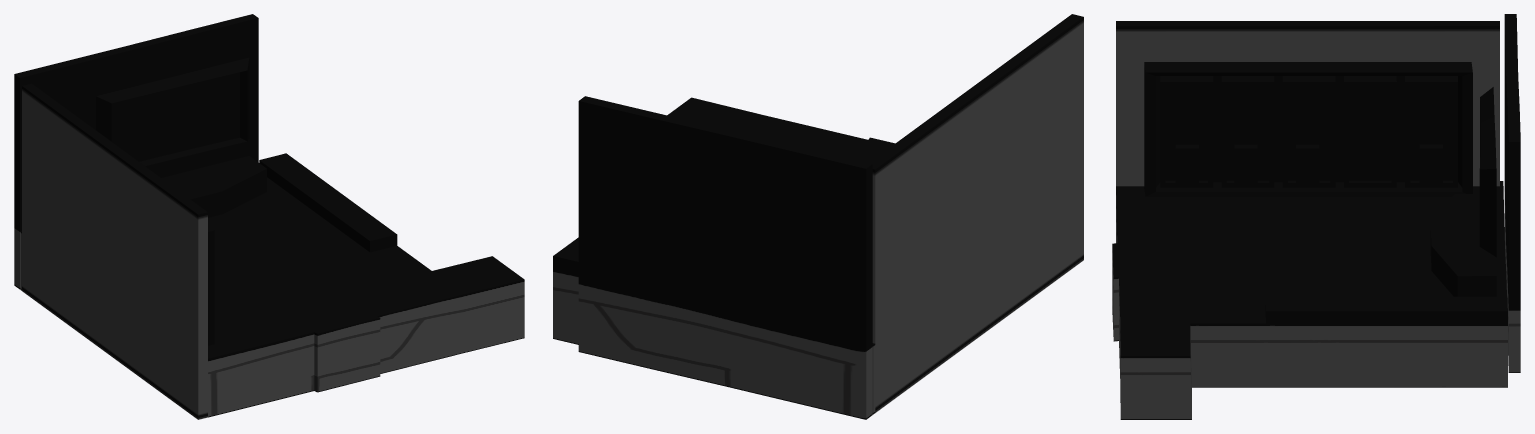
The model's file is room3.fbx.
3 views of the same model, side by side, from view 1: azimuth 30°, elevation 25°; view 2: azimuth 150°, elevation 25°; view 3: azimuth 270°, elevation 25° (orthographic). The views are drawn at different scales.
Parts seen in each view (by area): view 1: walls, console2, xyznr; view 2: walls; view 3: walls, xyznr, console2.
Part boxes in pixels (box(x1,y1,x2,y2)): walls: box(14, 14, 524, 419); console2: box(96, 57, 266, 217); xyznr: box(208, 226, 214, 345); walls: box(553, 14, 1083, 419); walls: box(1112, 14, 1520, 419); xyznr: box(1144, 62, 1472, 196); console2: box(1430, 87, 1496, 296).
Bounding box in the file's own units: 587 × 361 × 579.
